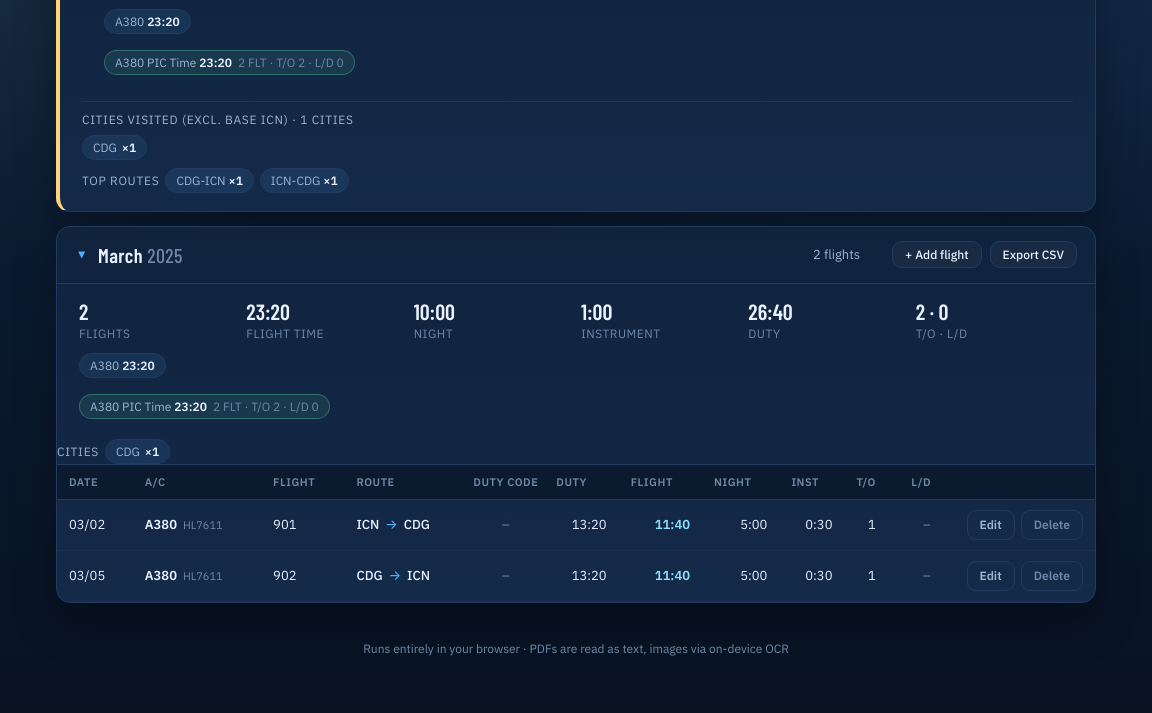
Test: editing a logged flight › replaces the sector even when its identity changes
(page scrolled)
Click the button with aria-label "Edit the 2025/03/02". click: (991, 525)
box: x1=967 y1=510 x2=1015 y2=540
(page scrolled)
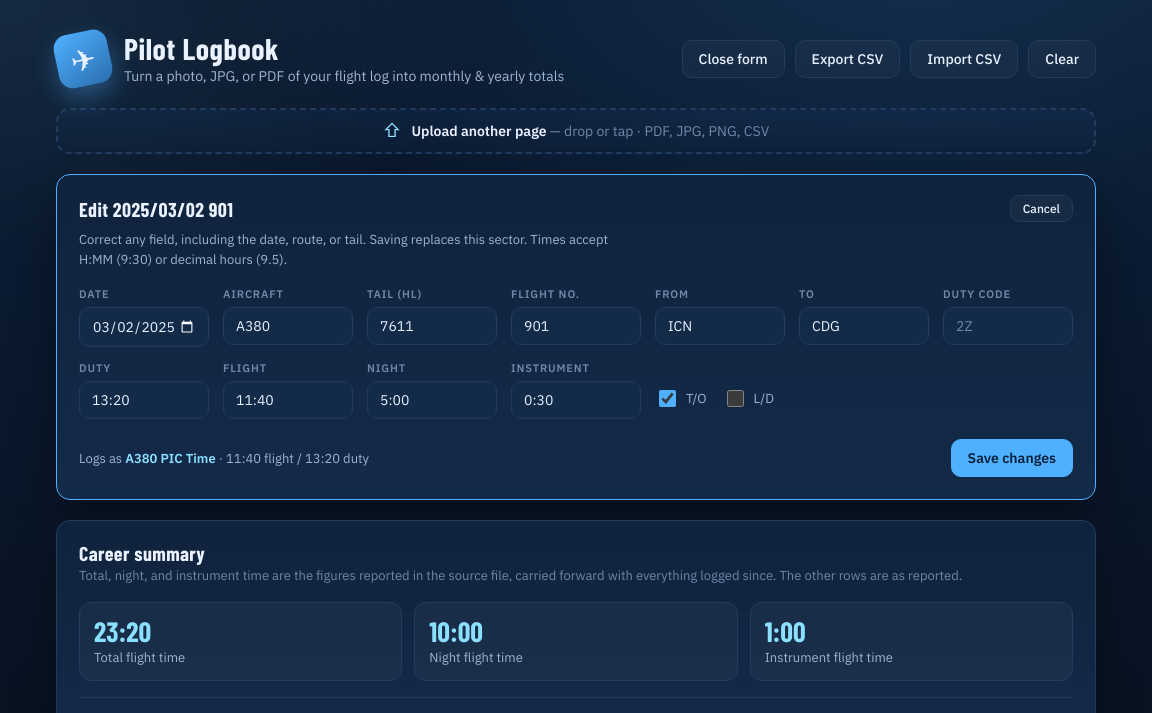
Type "7622" into the field labelled "Tail (HL)". click: (432, 326)
box: x1=367 y1=307 x2=497 y2=345
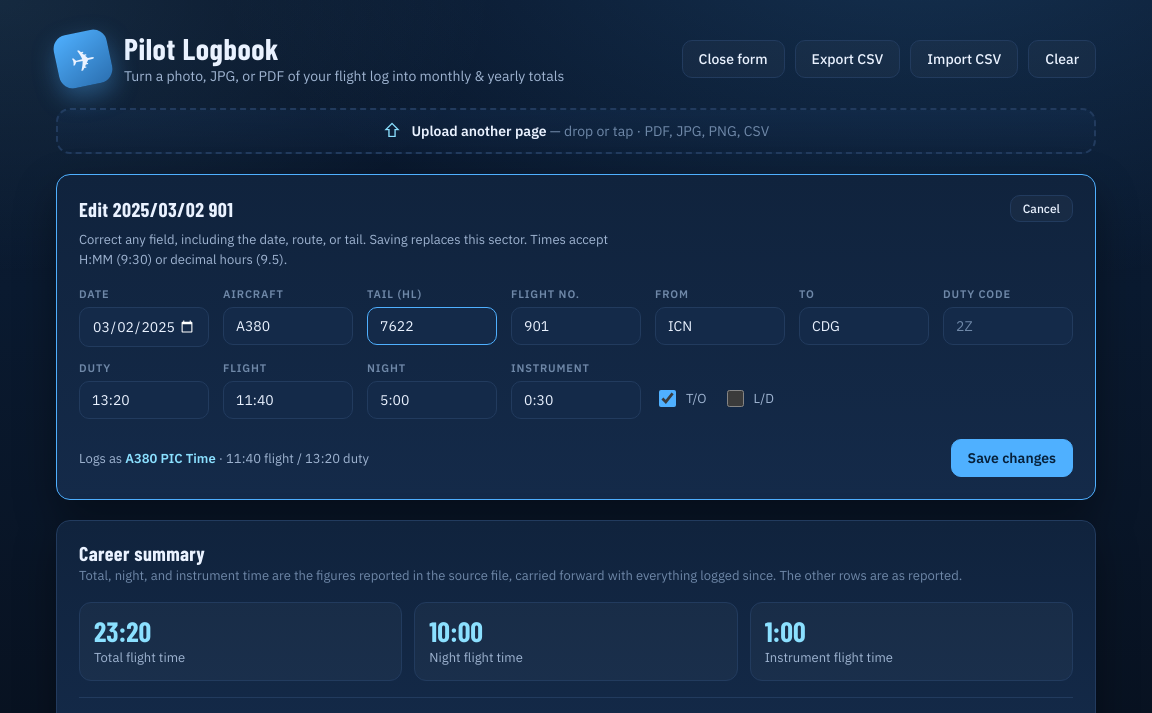
Click the button "Save changes". click: (1012, 458)
box: x1=951 y1=439 x2=1073 y2=477
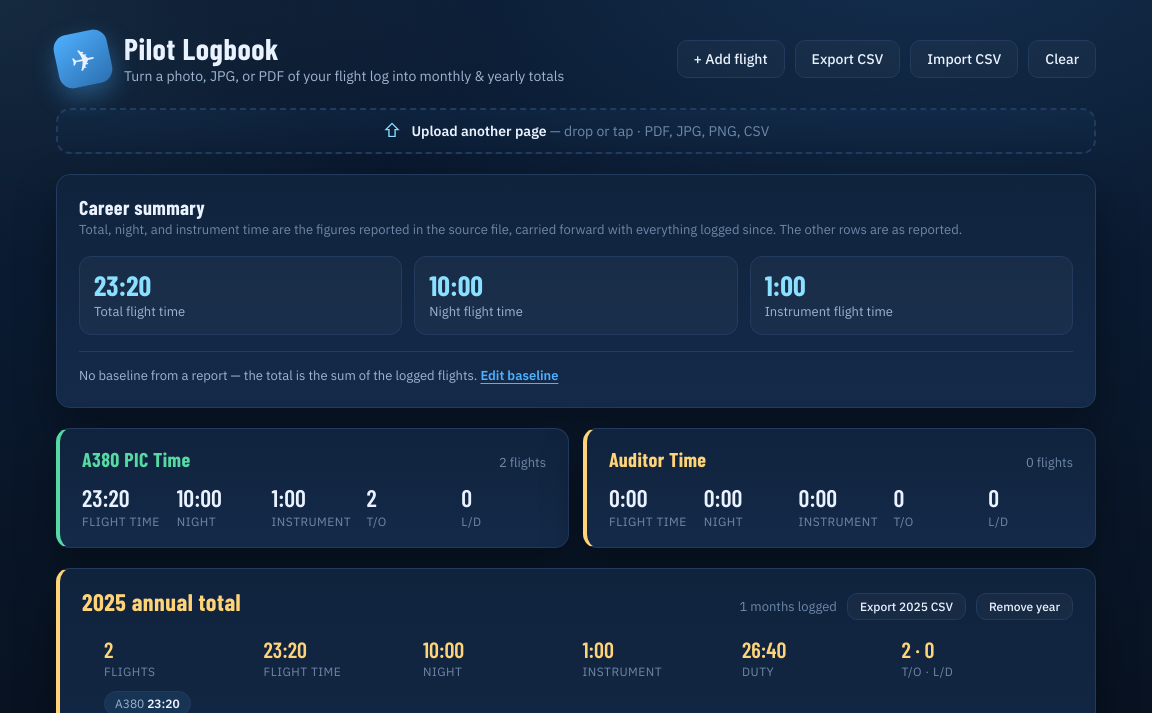
Result: the button "Save changes" is gone
